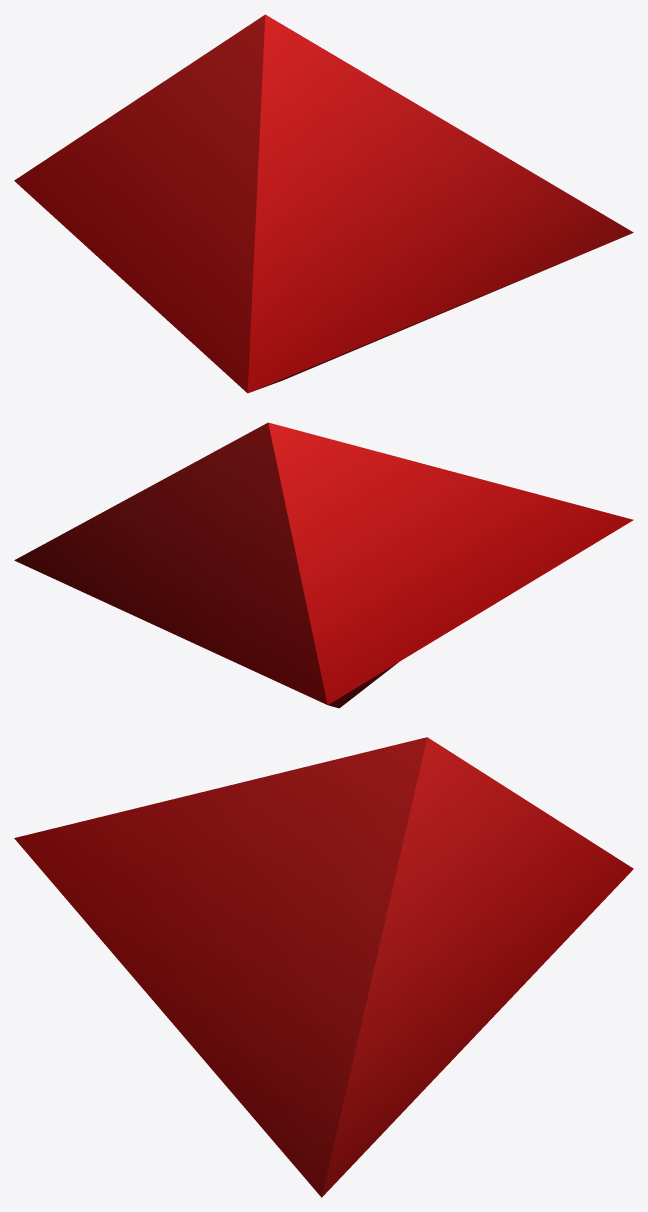
File: c_roof_triangle_af.fbx
3 renders of one model, top to bottom at view 1: azimuth 30°, elevation 25°; view 2: azimuth 150°, elevation 25°; view 3: azimuth 270°, elevation 25°, orthographic. The views are drawn at different scales.
Visible parts, largest first — view 1: c_roof_triangle_af; view 2: c_roof_triangle_af; view 3: c_roof_triangle_af.
Part boxes in pixels (x1,y1,x2,y2): c_roof_triangle_af: (14,14,633,393); c_roof_triangle_af: (14,422,633,708); c_roof_triangle_af: (14,737,633,1197).
Bounding box in the file's own units: 3.88 × 1.93 × 3.6.
